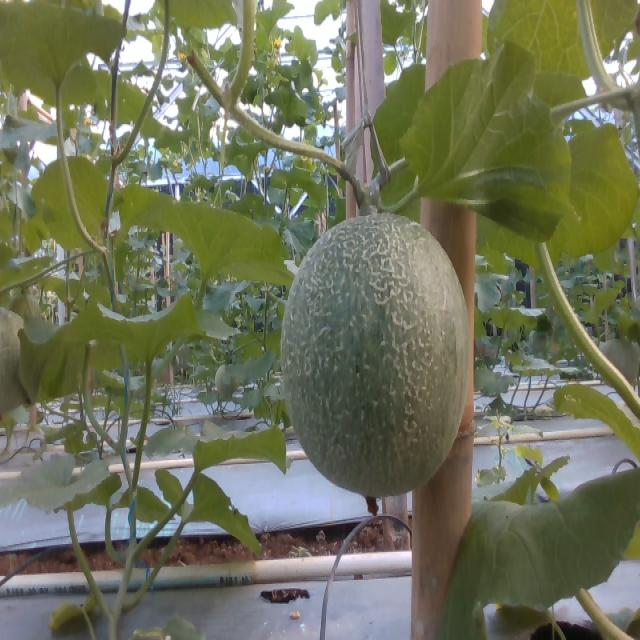melon: (283, 213, 470, 497)
